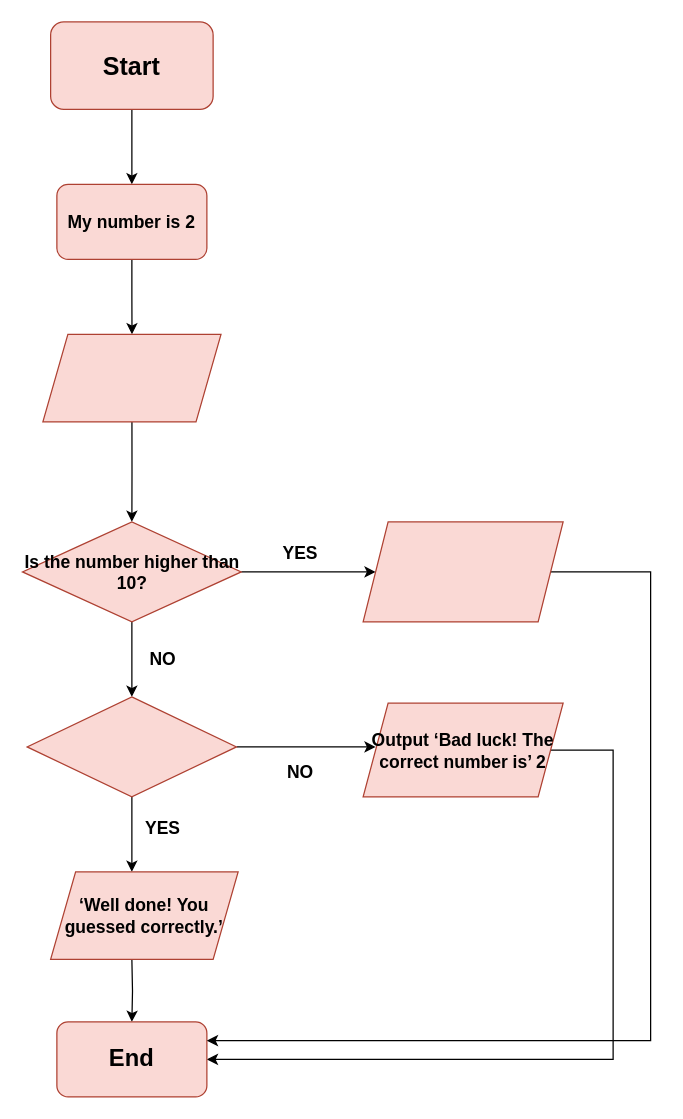
This 683x1119 diagram has some shape labels left out. The centre of each missing label's shape, as x and y in pixels:
"Enter number" goes at [131,377].
"Is the number 2?" goes at [131,746].
"‘Too high! You must guess a number between 1 and 10’" goes at [462,571].
